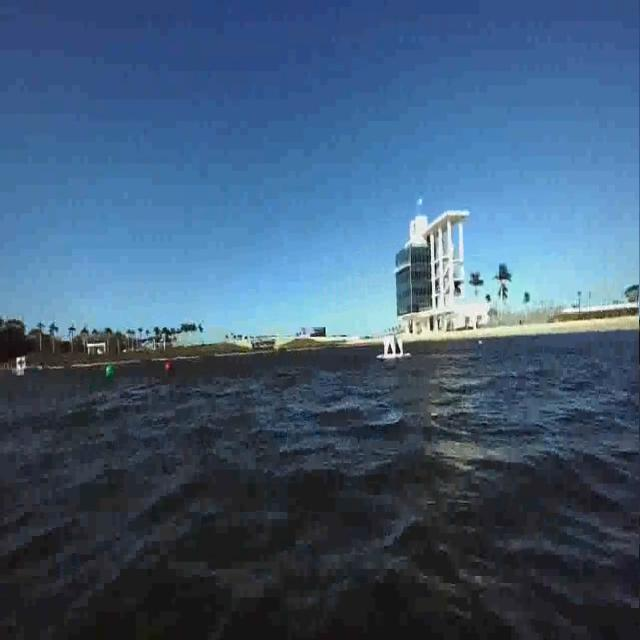green-buoy: (103, 362, 116, 382)
red-buoy: (164, 359, 173, 374)
